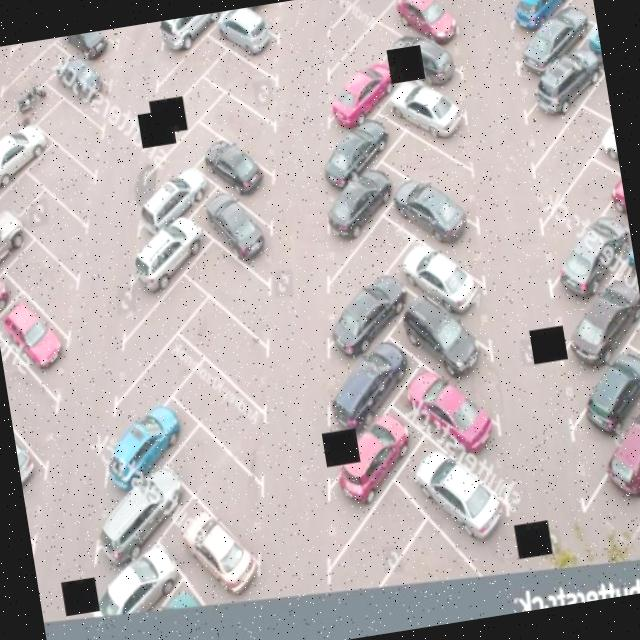empty: (147, 401, 286, 593), (92, 264, 234, 412), (160, 346, 278, 507), (303, 472, 443, 603), (522, 146, 638, 302), (174, 220, 284, 370), (374, 117, 491, 250), (520, 100, 628, 232), (0, 308, 76, 489), (3, 175, 103, 302), (312, 208, 428, 314), (8, 132, 114, 248), (194, 34, 289, 148), (28, 81, 114, 200), (310, 0, 418, 88), (82, 26, 129, 54)
occupied: (384, 414, 526, 578), (538, 255, 640, 449), (380, 345, 509, 494), (531, 198, 640, 367), (382, 274, 501, 417), (551, 326, 640, 514), (378, 217, 492, 353), (308, 326, 426, 444), (560, 393, 640, 561), (186, 122, 284, 235), (0, 281, 76, 406), (10, 402, 66, 562)
